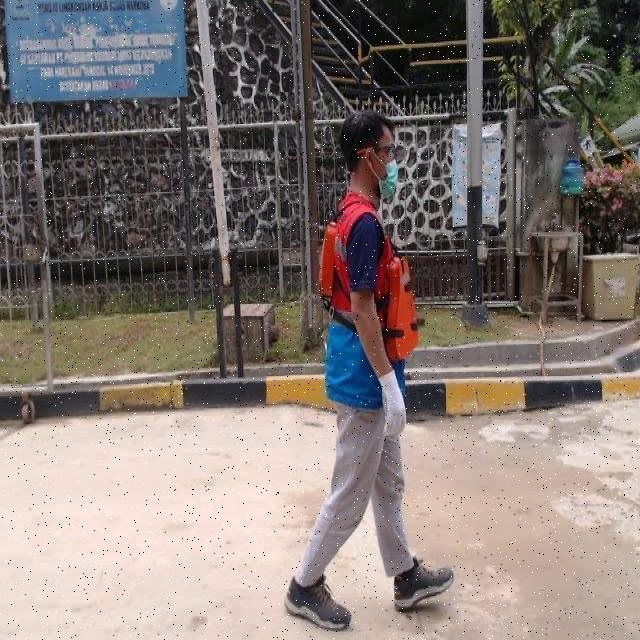goggles_on: (352, 136, 403, 164)
